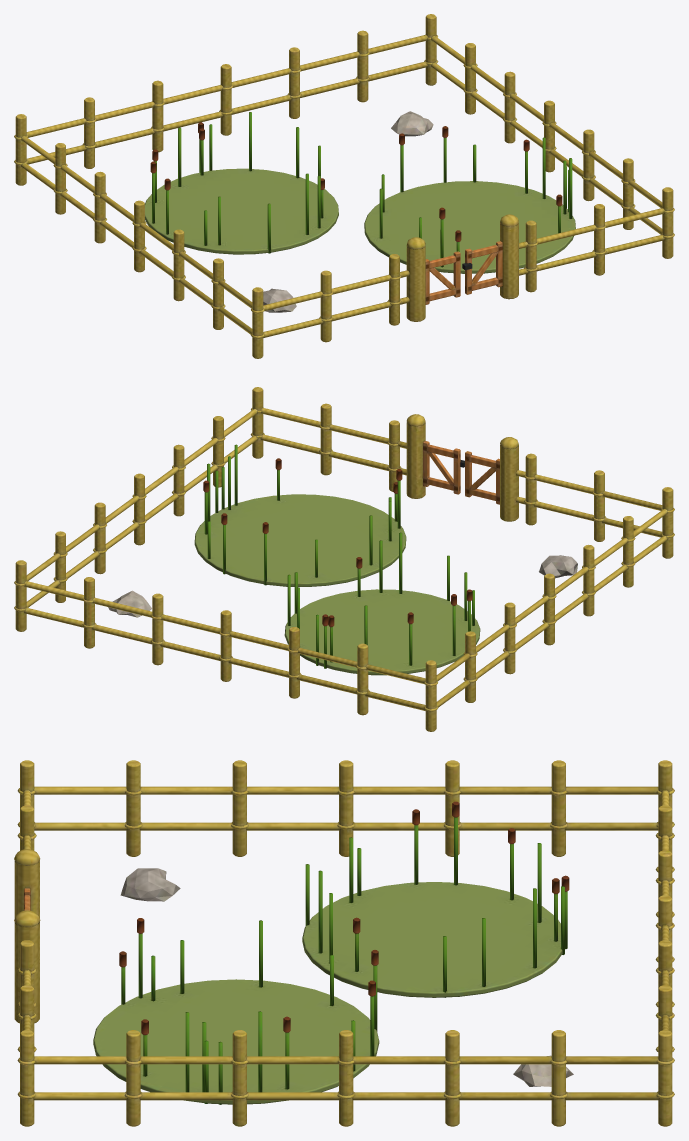
Rendered from crane_marsh.glb.
3 views of the same model, one above another, from view 1: azimuth 30°, elevation 25°; view 2: azimuth 150°, elevation 25°; view 3: azimuth 270°, elevation 25° (orthographic). The views are drawn at different scales.
Parts seen in each view (by area): view 1: crane_marsh, gate1, gate0; view 2: crane_marsh, gate1, gate0; view 3: crane_marsh.
Boxes of the visible parts, x1,y1,x2,y2 form: crane_marsh: [14, 14, 674, 358]; gate1: [462, 241, 502, 294]; gate0: [425, 251, 460, 304]; crane_marsh: [14, 387, 674, 731]; gate1: [423, 441, 464, 494]; gate0: [465, 451, 499, 504]; crane_marsh: [14, 760, 674, 1126].
Bounding box in the file's own units: 2.99 × 0.542 × 3.
1 material, 1 textured.
